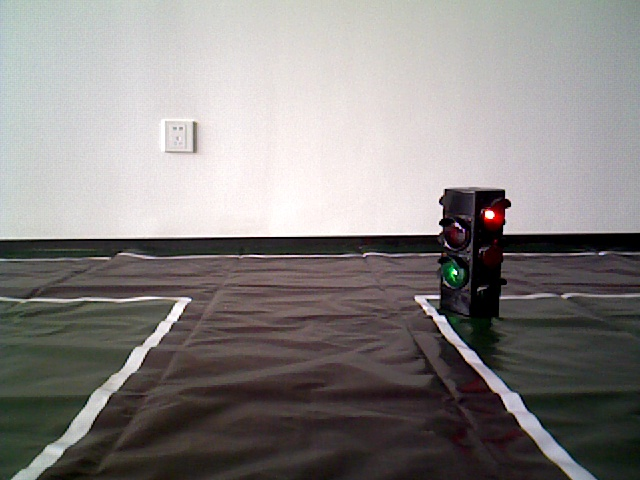red: (444, 191, 504, 309)
